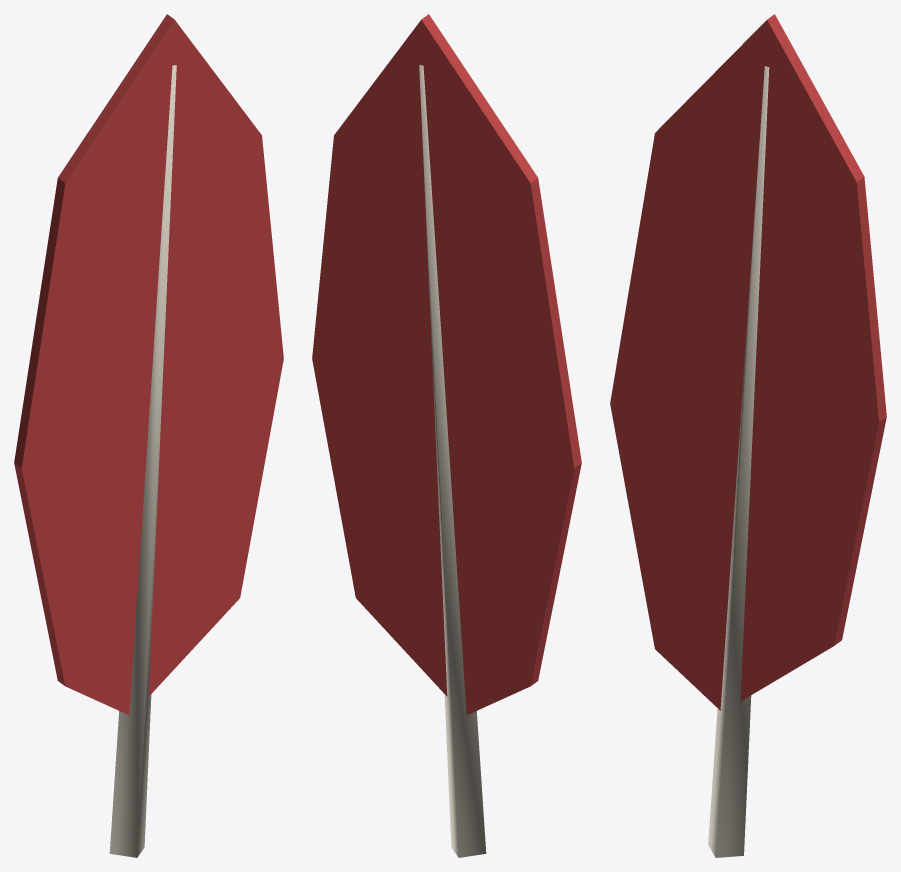
File: strange_plant_4.glb
3 renders of one model, left to right at view 1: azimuth 30°, elevation 25°; view 2: azimuth 150°, elevation 25°; view 3: azimuth 330°, elevation 25°, orthographic. The views are drawn at different scales.
Visible parts, largest first — view 1: strange_plant_4_v0; view 2: strange_plant_4_v0; view 3: strange_plant_4_v0.
Boxes of the visible parts, x1,y1,x2,y2 form: strange_plant_4_v0: [14, 14, 283, 857]; strange_plant_4_v0: [312, 14, 581, 857]; strange_plant_4_v0: [610, 14, 886, 857].
Bounding box in the file's own units: 0.12 × 0.3605 × 0.016.
